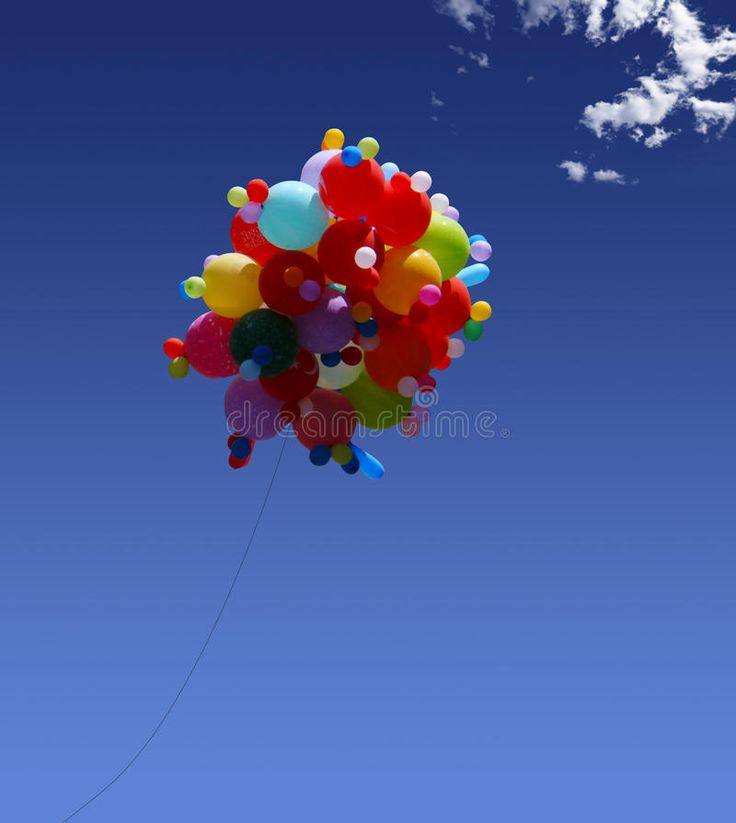Balloon: (229, 308, 298, 377), (364, 318, 432, 387), (255, 179, 322, 249), (317, 220, 384, 284), (321, 148, 380, 219), (378, 245, 440, 312), (258, 250, 322, 313), (292, 388, 355, 451), (224, 376, 287, 438), (201, 252, 262, 316), (186, 314, 232, 373)
